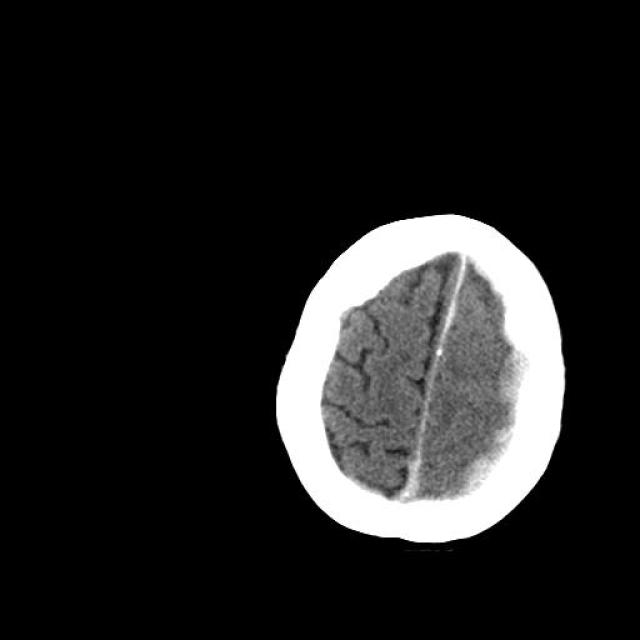Subdural: (446, 362, 545, 522), (388, 395, 442, 526)
